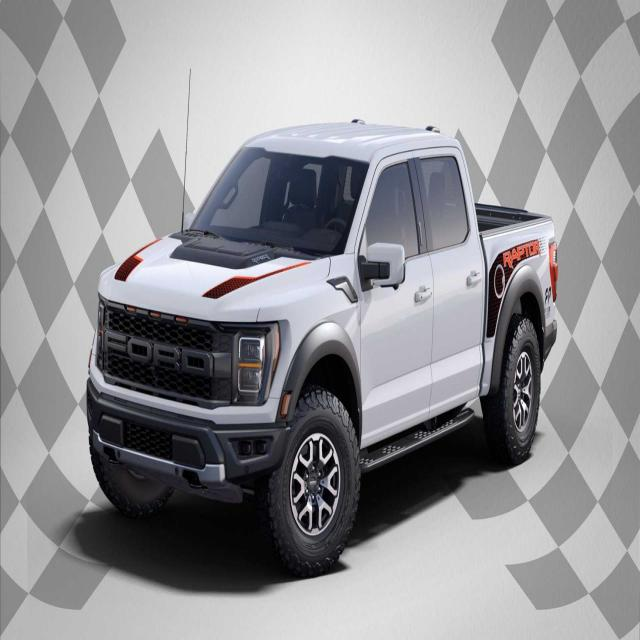truck: (76, 62, 582, 589)
